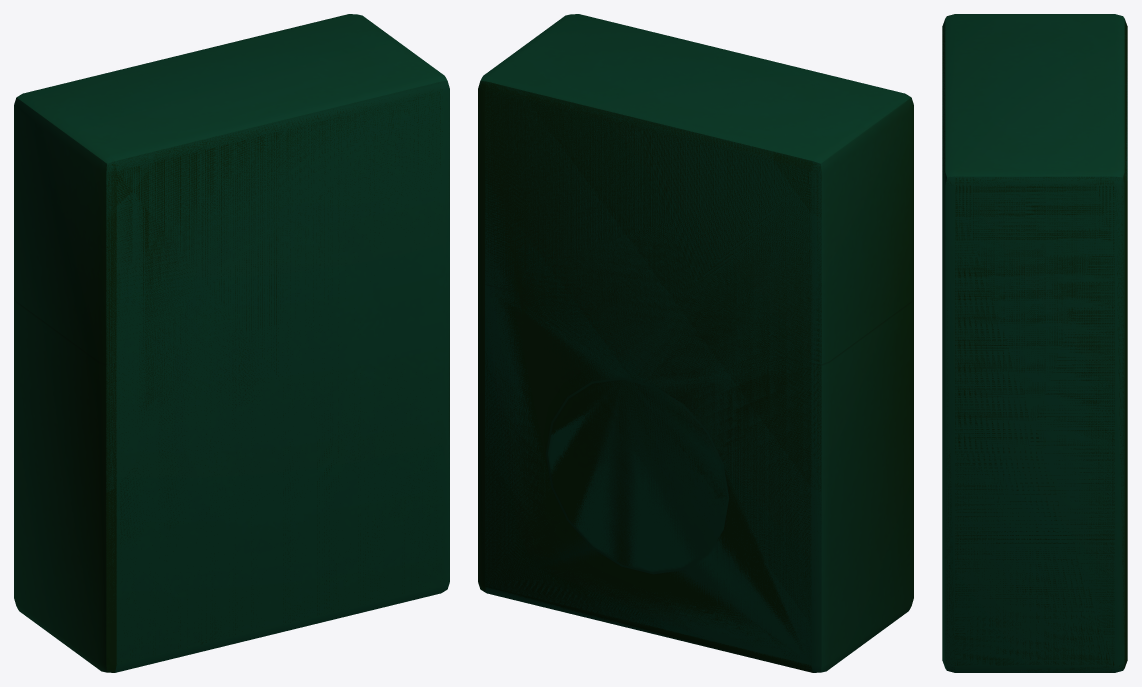
3 renders of one model, left to right at view 1: azimuth 30°, elevation 25°; view 2: azimuth 150°, elevation 25°; view 3: azimuth 270°, elevation 25°, orthographic. The views are drawn at different scales.
Visible parts, largest first — view 1: 205_ZhuaXiang_LaKuai_Quan, 205_ZhuaXiang_LaKuai, 205_ZhuaXiang_LaKuai_QuChu, 205_ZhuaXiang_LaKuai_QieGe; view 2: 205_ZhuaXiang_LaKuai_Quan, 205_ZhuaXiang_LaKuai_QuChu, 205_ZhuaXiang_LaKuai, 205_ZhuaXiang_LaKuai_QieGe; view 3: 205_ZhuaXiang_LaKuai_Quan, 205_ZhuaXiang_LaKuai, 205_ZhuaXiang_LaKuai_QuChu.
Boxes of the visible parts, x1,y1,x2,y2 form: 205_ZhuaXiang_LaKuai_Quan: [28, 14, 449, 672]; 205_ZhuaXiang_LaKuai: [34, 14, 449, 672]; 205_ZhuaXiang_LaKuai_QuChu: [14, 15, 442, 364]; 205_ZhuaXiang_LaKuai_QieGe: [14, 297, 440, 672]; 205_ZhuaXiang_LaKuai_Quan: [478, 14, 909, 672]; 205_ZhuaXiang_LaKuai_QuChu: [485, 16, 913, 364]; 205_ZhuaXiang_LaKuai: [478, 14, 906, 671]; 205_ZhuaXiang_LaKuai_QieGe: [484, 284, 913, 672]; 205_ZhuaXiang_LaKuai_Quan: [942, 15, 1127, 672]; 205_ZhuaXiang_LaKuai: [942, 15, 1127, 672]; 205_ZhuaXiang_LaKuai_QuChu: [942, 14, 1127, 180].
Size of the model in its own units: 1.83 by 2.59 by 0.867.
1 material, 1 textured.
